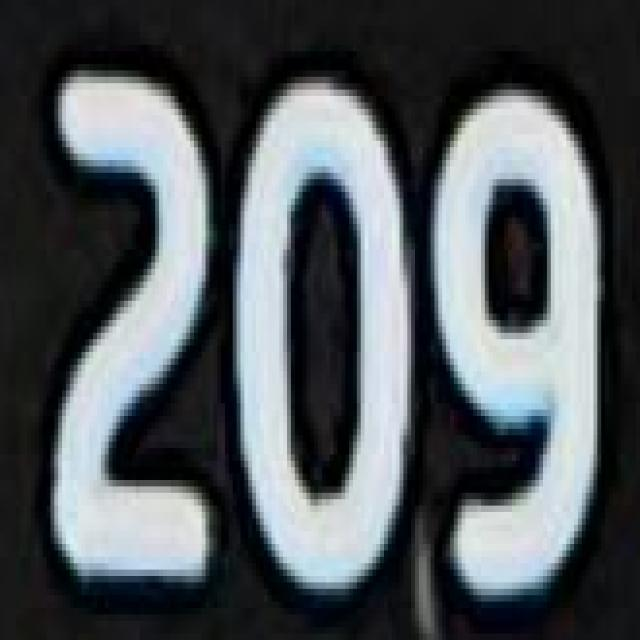character: (232, 74, 419, 601), (47, 59, 227, 602), (430, 83, 606, 612)
